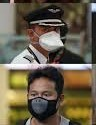with_mask: (22, 7, 70, 62), (21, 69, 67, 118)
